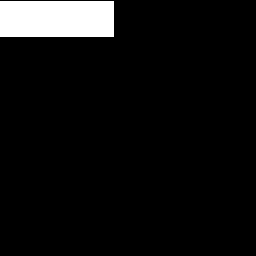rumex: (0, 1, 113, 36)
